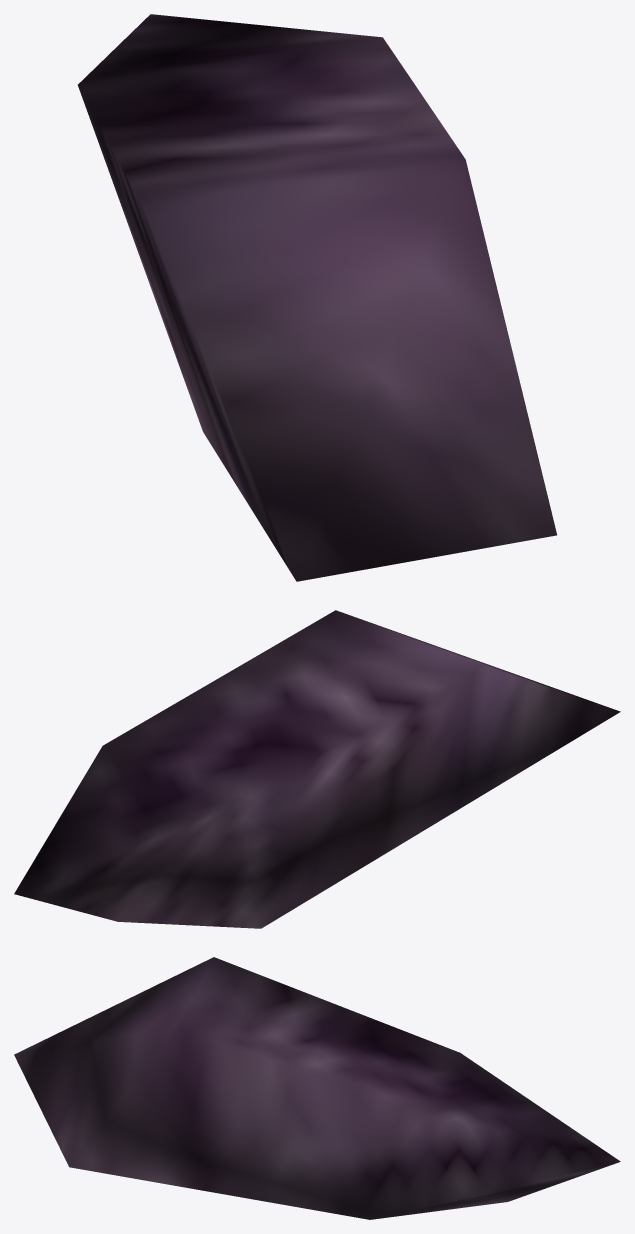
Rendered from condra_7_stone_3.glb.
3 views of the same model, one above another, from view 1: azimuth 30°, elevation 25°; view 2: azimuth 150°, elevation 25°; view 3: azimuth 270°, elevation 25° (orthographic). The views are drawn at different scales.
Parts seen in each view (by area): view 1: model_condra_7_stone_3; view 2: model_condra_7_stone_3; view 3: model_condra_7_stone_3.
Boxes of the visible parts, bbox=[...] form: model_condra_7_stone_3: bbox=[78, 14, 556, 581]; model_condra_7_stone_3: bbox=[14, 610, 620, 928]; model_condra_7_stone_3: bbox=[14, 957, 620, 1219].
Bounding box in the file's own units: 0.1434 × 0.1092 × 0.3.
1 material, 1 textured.
